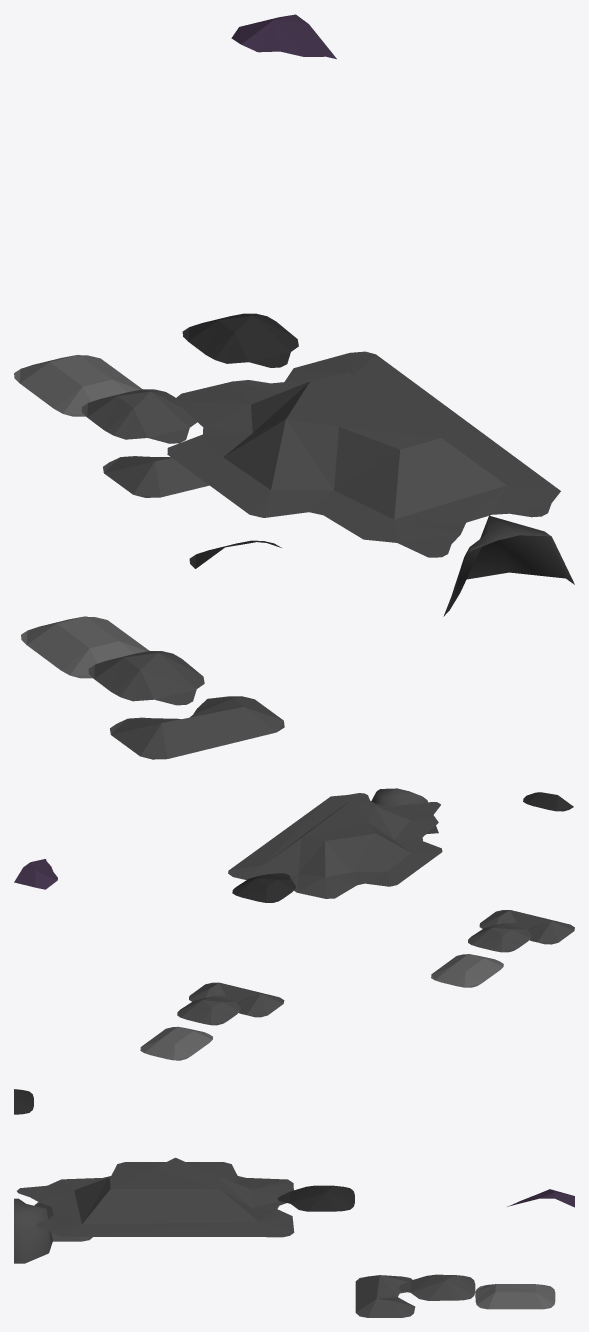
File: newshb-39.glb
The picture shows the model from 3 angles, top to bottom: view 1: azimuth 30°, elevation 25°; view 2: azimuth 150°, elevation 25°; view 3: azimuth 270°, elevation 25°; orthographic projection. The views are drawn at different scales.
Visible parts, largest first — view 1: newshb-39; view 2: newshb-39; view 3: newshb-39.
Boxes of the visible parts, box(x1,y1,x2,y2) form: newshb-39: box(14, 14, 574, 759); newshb-39: box(14, 788, 574, 1060); newshb-39: box(14, 1089, 574, 1317).
Size of the model in its own units: 1.66 by 0.7854 by 2.33.
